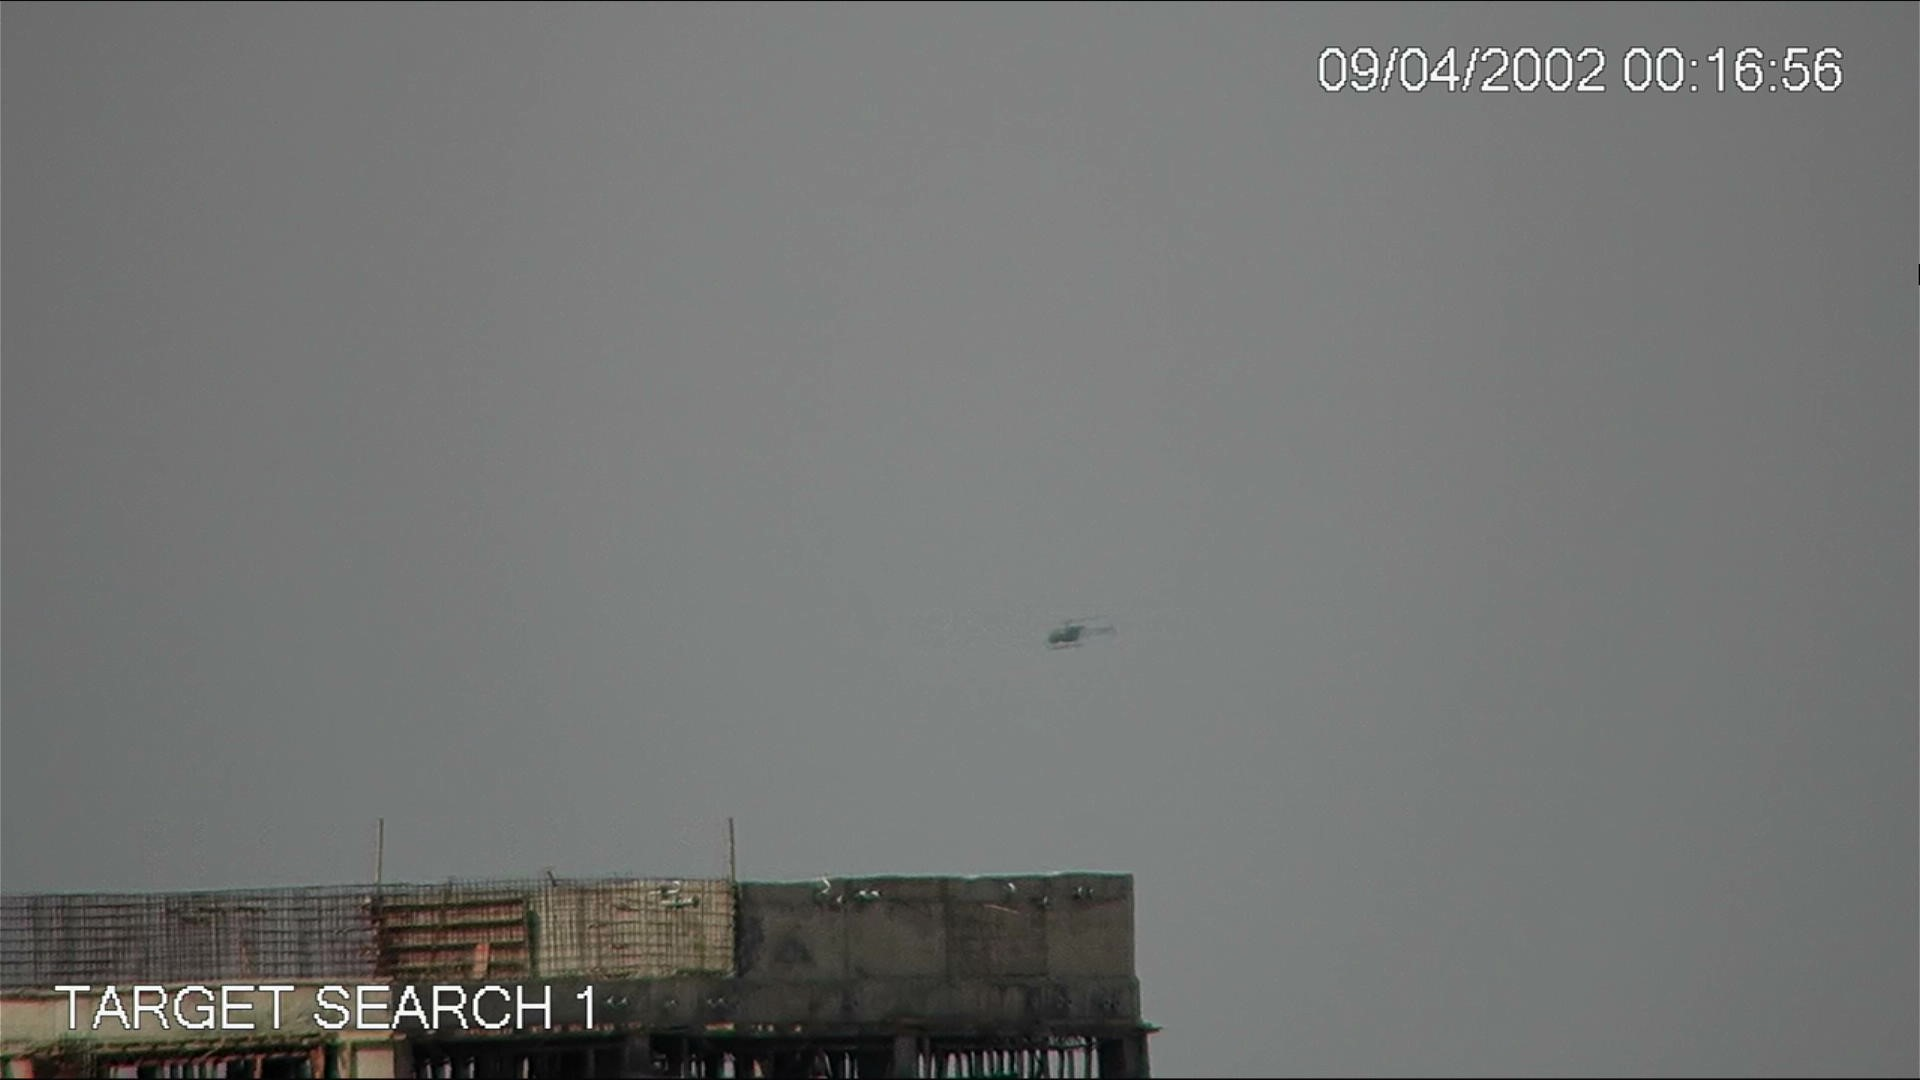SU_30: (1040, 615, 1091, 653)
